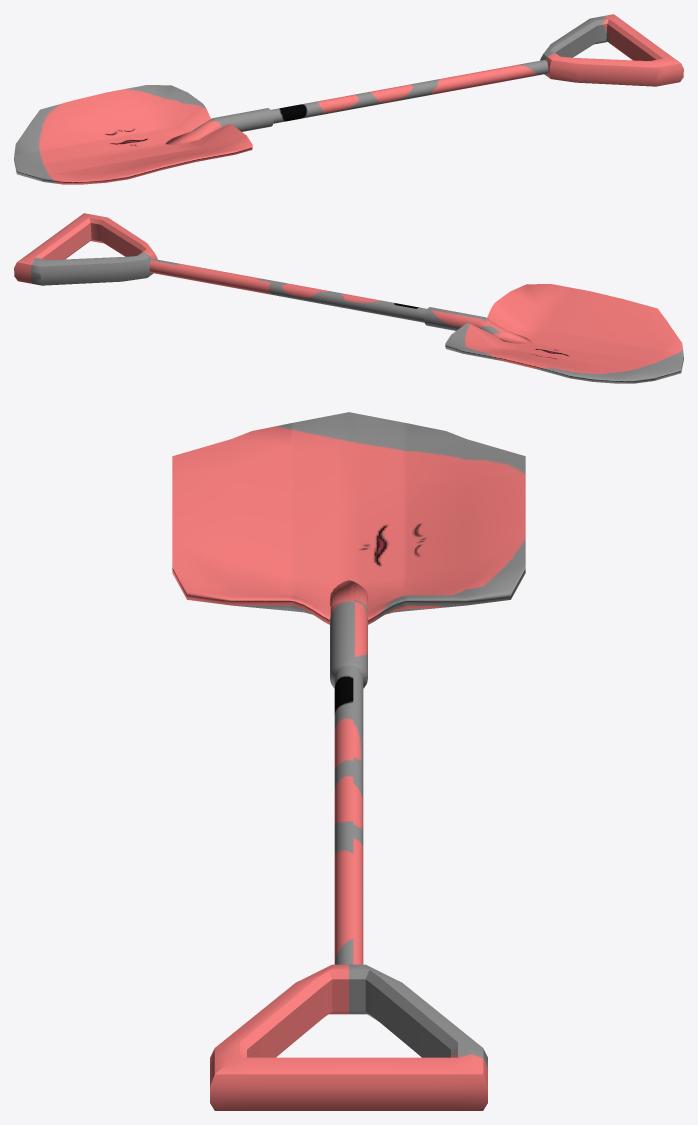
The model's file is shavel.fbx.
The picture shows the model from 3 angles, top to bottom: view 1: azimuth 30°, elevation 25°; view 2: azimuth 150°, elevation 25°; view 3: azimuth 270°, elevation 25°; orthographic projection. The views are drawn at different scales.
Visible parts, largest first — view 1: pPlane1, pCube1, pCylinder1, pCylinder2; view 2: pPlane1, pCube1, pCylinder1, pCylinder2; view 3: pPlane1, pCube1, pCylinder1, pCylinder2.
Boxes of the visible parts, x1,y1,x2,y2 form: pPlane1: [14, 85, 252, 184]; pCube1: [540, 14, 683, 86]; pCylinder1: [271, 60, 548, 123]; pCylinder2: [166, 108, 273, 144]; pPlane1: [445, 284, 683, 383]; pCube1: [14, 213, 157, 285]; pCylinder1: [149, 259, 426, 322]; pCylinder2: [424, 307, 531, 343]; pPlane1: [172, 412, 525, 624]; pCube1: [210, 964, 487, 1110]; pCylinder1: [334, 665, 363, 964]; pCylinder2: [330, 580, 367, 688].
Bounding box in the file's own units: 120 × 10.16 × 29.06.
